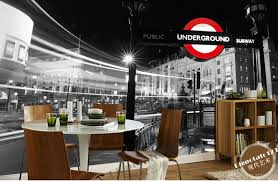London Underground: (178, 17, 230, 62)
